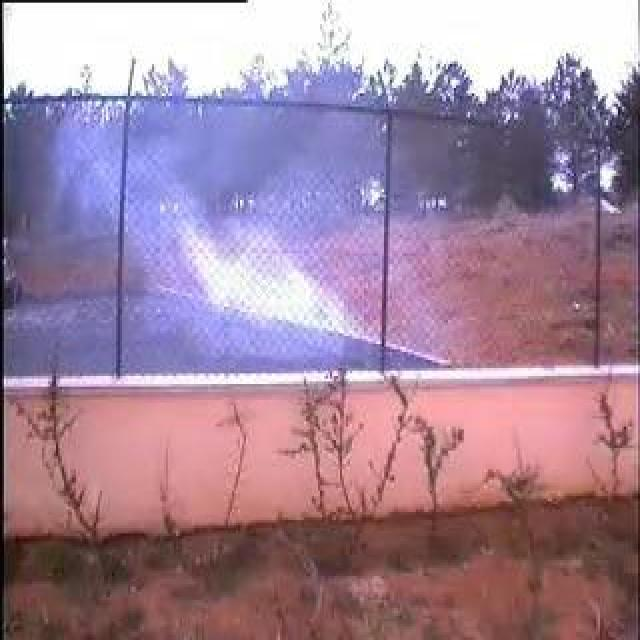Smoke: (121, 115, 387, 373)
